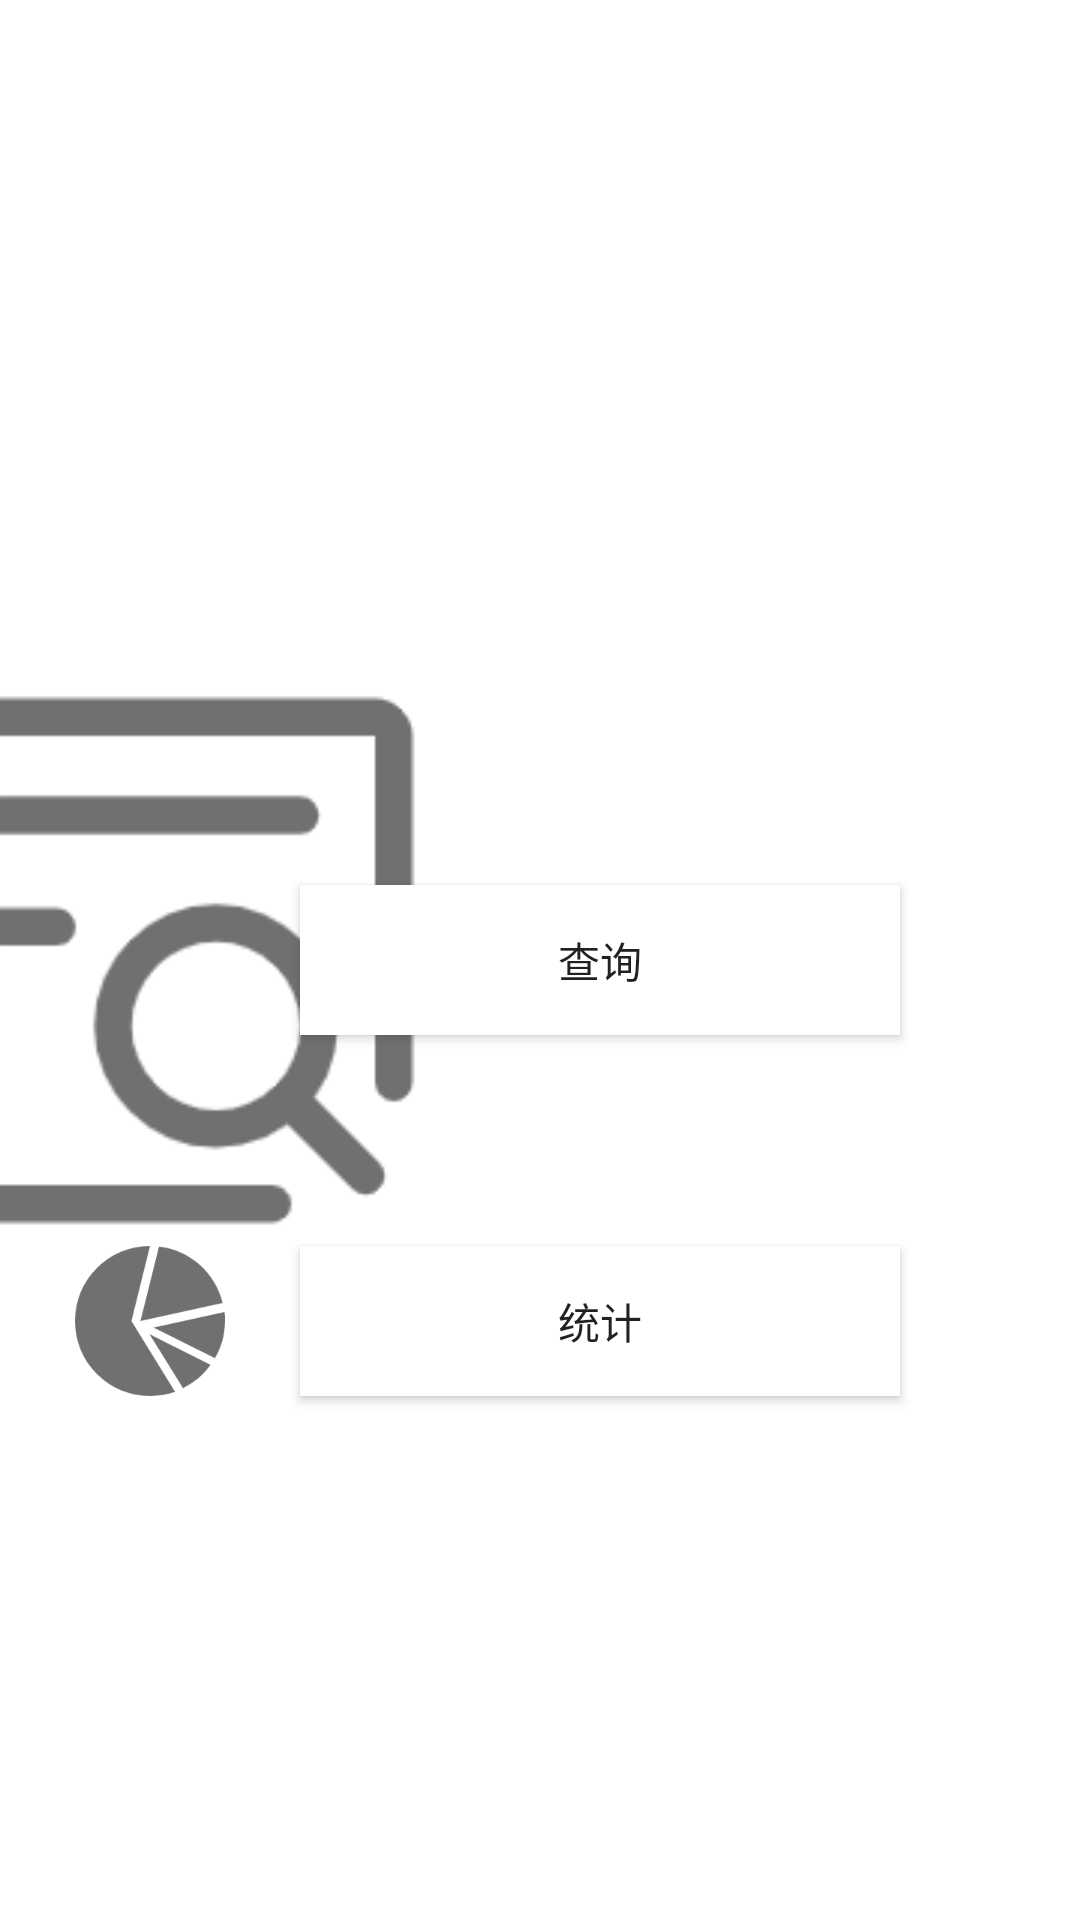

Screen size 1080*1920. Icon name, then its center in pixels as (x=x, y=y):
statistics: (x=150, y=1321)
